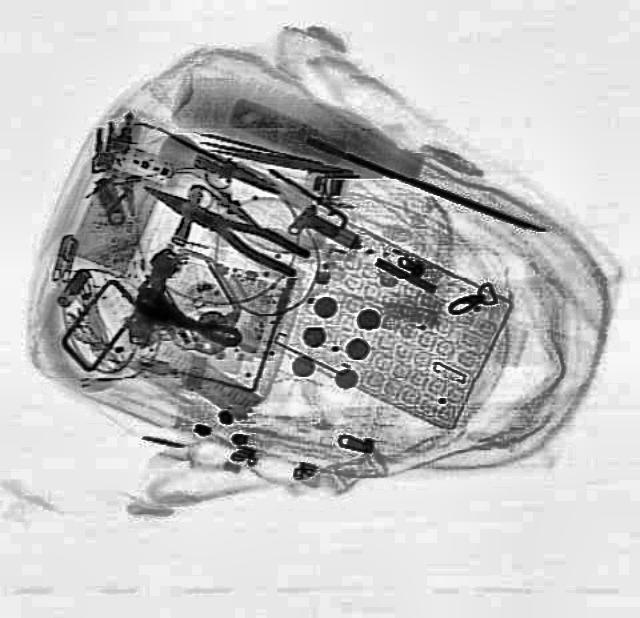Pliers: (133, 170, 310, 278)
